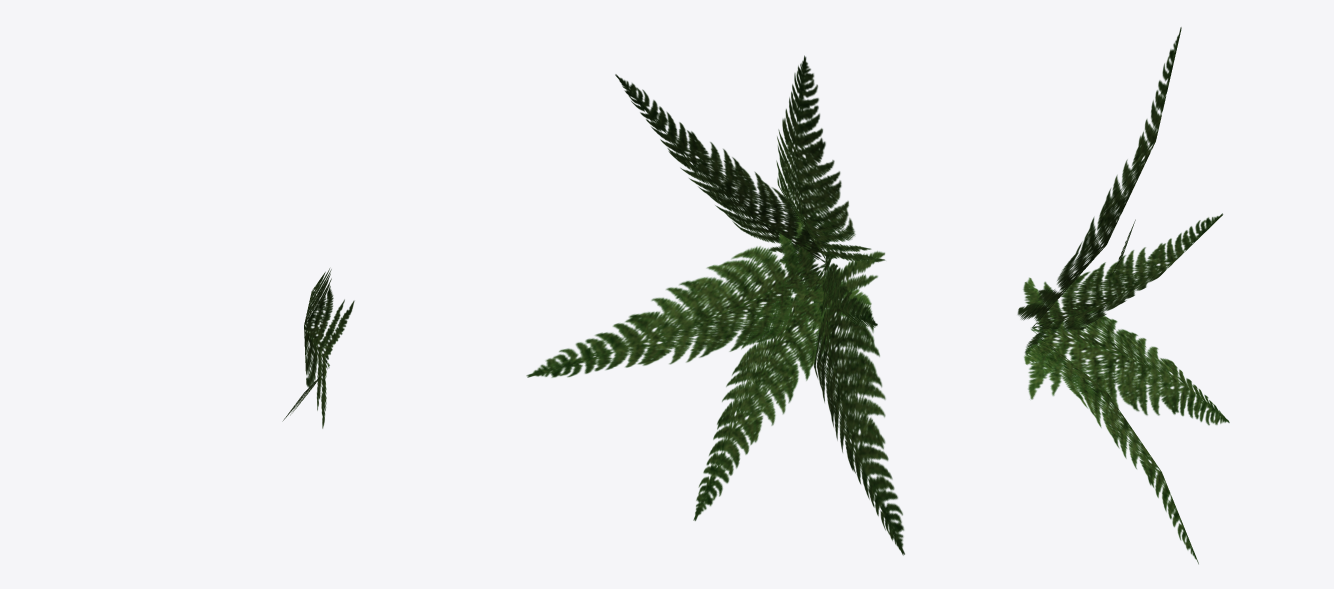
The model's file is fern_LOD30.glb.
The picture shows the model from 3 angles, left to right: view 1: azimuth 30°, elevation 25°; view 2: azimuth 150°, elevation 25°; view 3: azimuth 270°, elevation 25°; orthographic projection. The views are drawn at different scales.
Visible parts, largest first — view 1: vegetation_1.png__; view 2: vegetation_1.png__; view 3: vegetation_1.png__.
Part boxes in pixels (box(x1,y1,x2,y2)): vegetation_1.png__: box(282, 268, 354, 428); vegetation_1.png__: box(526, 55, 904, 555); vegetation_1.png__: box(1017, 27, 1229, 564).
Size of the model in its own units: 5.54 by 6.62 by 3.87.
Materials: 1 (1 with a texture image).
